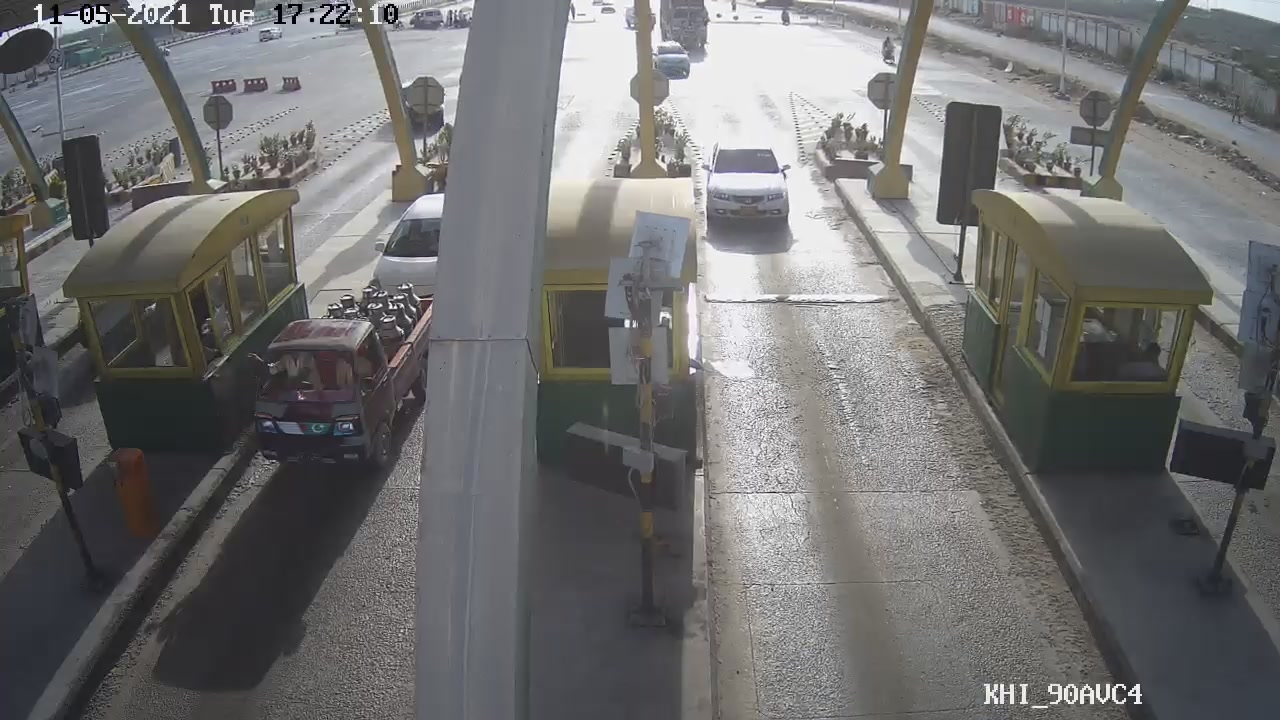F1: (700, 133, 800, 226)
